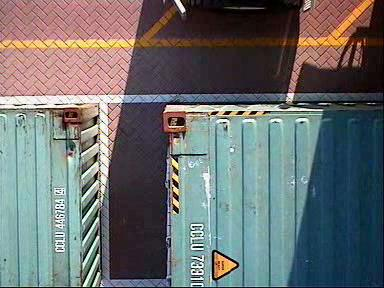groundmarker_2: (74, 94, 136, 138)
